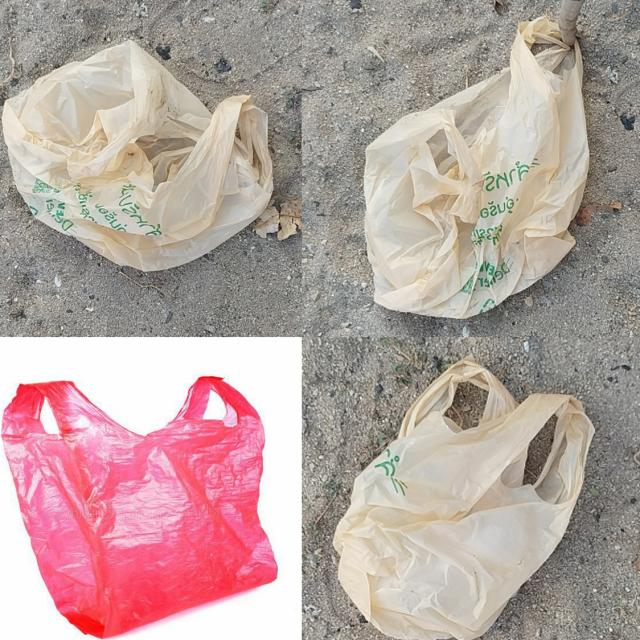plastik: (334, 358, 594, 640), (2, 377, 278, 637), (365, 17, 589, 318), (2, 41, 272, 270)
